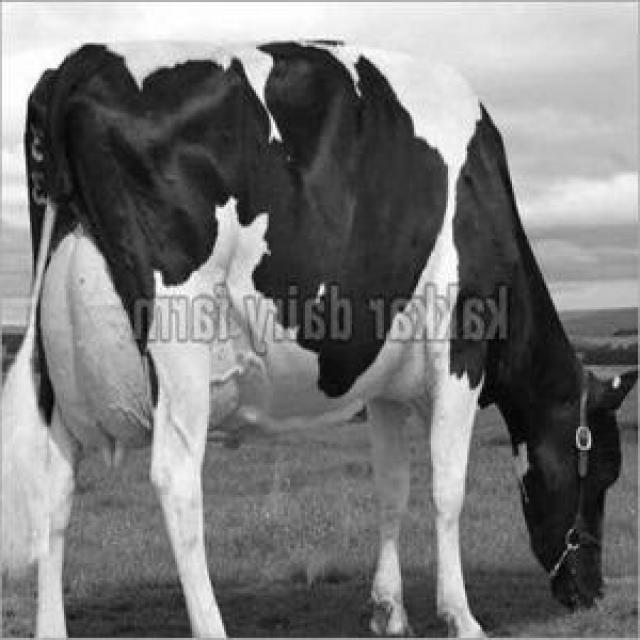cow: (1, 42, 635, 639)
